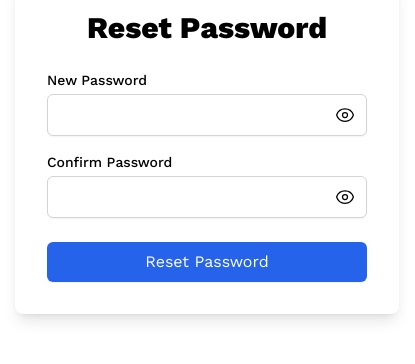
Test: ResetPasswordForm › validates password match
Type "password1" into the password field labelled "New Password" at (207, 115), box [47, 94, 367, 136]
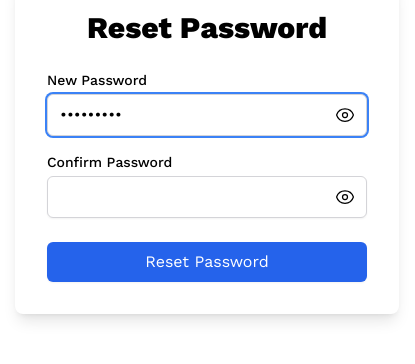
Type "password2" into the password field labelled "Confirm Password" at (207, 197), box [47, 176, 367, 218]
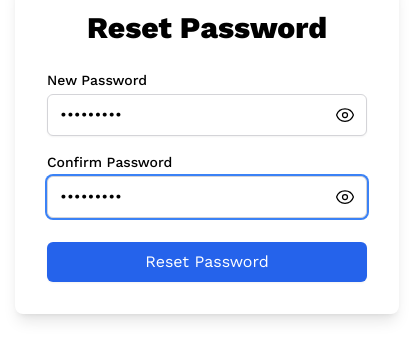
Click the button "Reset Password" at (207, 262), box [47, 242, 367, 282]
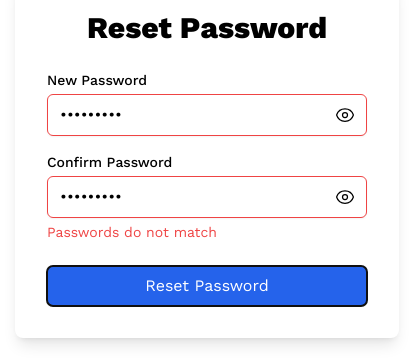
Result: the text "Passwords do not match" is shown at [47, 224, 217, 240]
